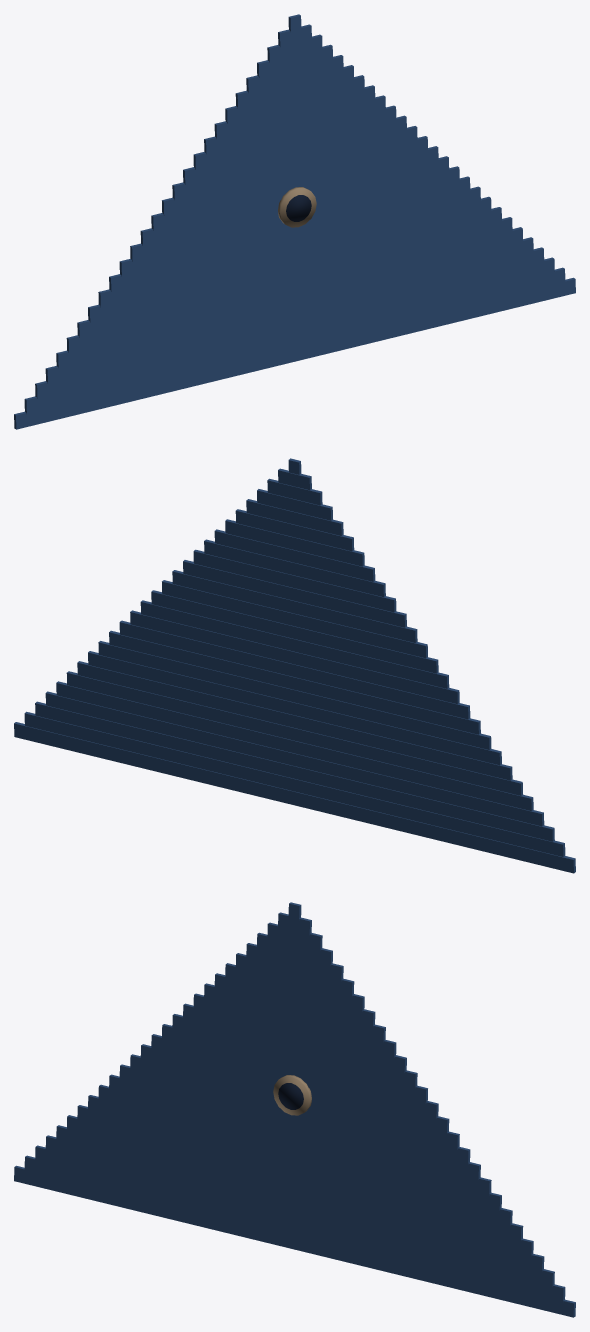
File: kit_clapboard_gable_w5.glb
3 renders of one model, top to bottom at view 1: azimuth 30°, elevation 25°; view 2: azimuth 150°, elevation 25°; view 3: azimuth 330°, elevation 25°, orthographic.
Parts seen in each view (by area): view 1: kit_clapboard_gable_w5; view 2: kit_clapboard_gable_w5; view 3: kit_clapboard_gable_w5.
Part boxes in pixels (x1,y1,x2,y2): kit_clapboard_gable_w5: (14,14,575,429); kit_clapboard_gable_w5: (14,458,575,873); kit_clapboard_gable_w5: (14,902,575,1317).
Size of the model in its own units: 4.91 by 2.89 by 0.082.
